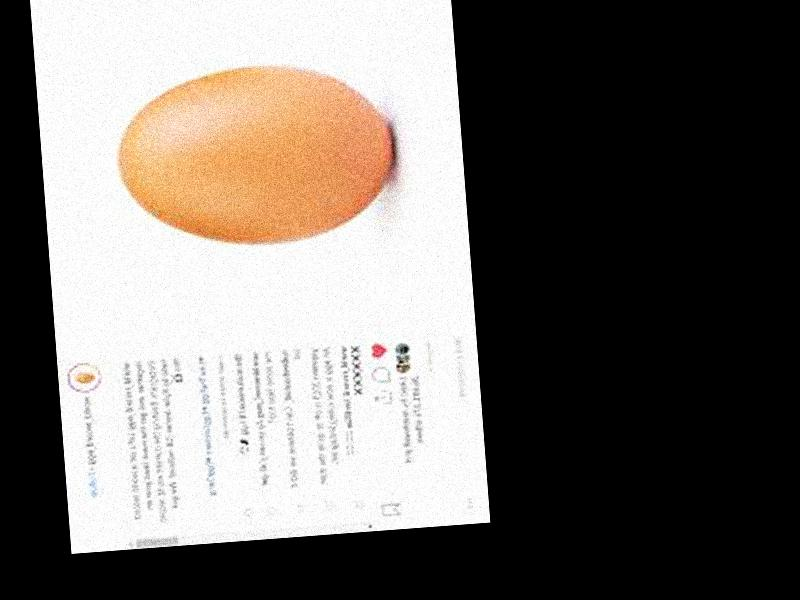Eggs: (113, 57, 396, 254)
